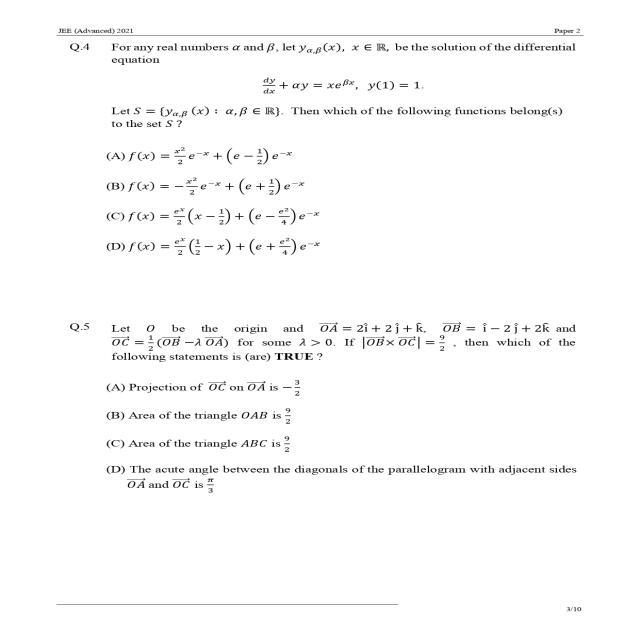Answer_Block: (47, 135, 597, 283), (47, 365, 597, 513)
Question_Answer_Block: (47, 41, 597, 282), (47, 314, 597, 512)
Question_Block: (47, 41, 597, 137), (47, 314, 597, 366)
Question_Paper_Area: (47, 41, 597, 598)
